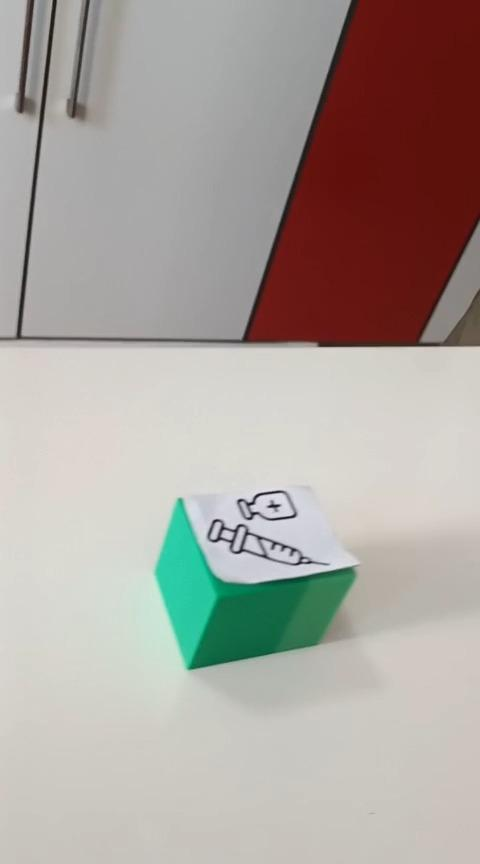antiseptic cream: (153, 482, 361, 670)
